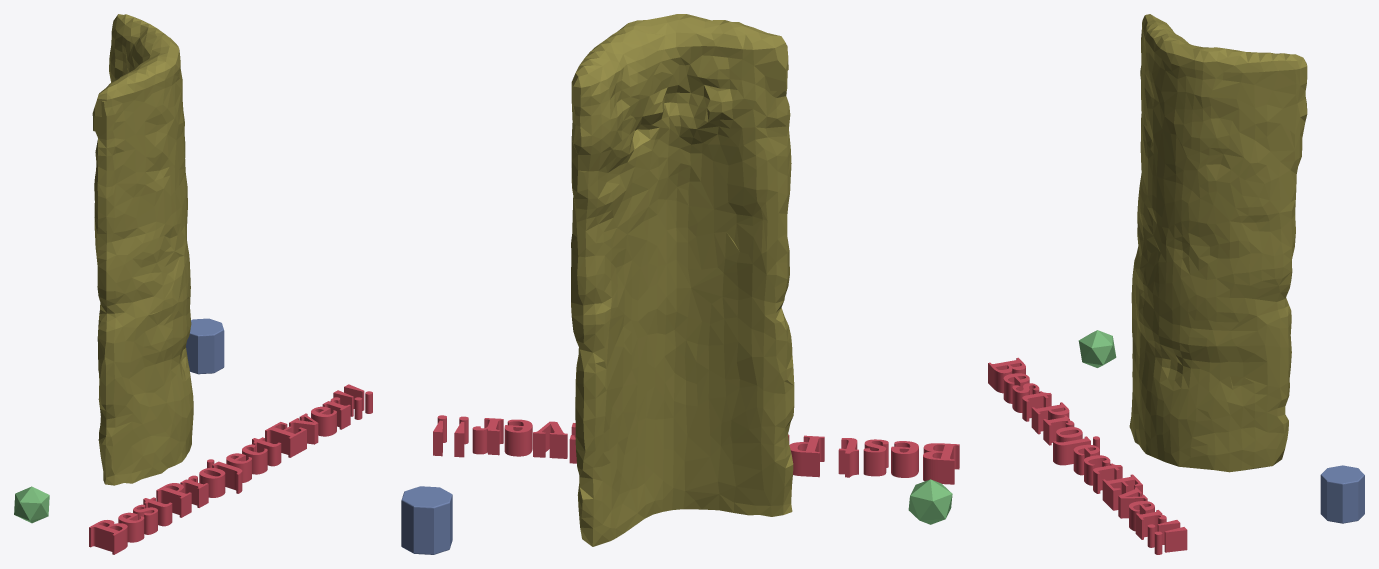
File: tinker_tiki.glb
3 views of the same model, side by side, from view 1: azimuth 30°, elevation 25°; view 2: azimuth 150°, elevation 25°; view 3: azimuth 270°, elevation 25° (orthographic). The views are drawn at different scales.
Visible parts, largest first — view 1: Mesh_Mesh_head_geo.001_lambert2SG.001; view 2: Mesh_Mesh_head_geo.001_lambert2SG.001; view 3: Mesh_Mesh_head_geo.001_lambert2SG.001.
Part boxes in pixels (<box>): Mesh_Mesh_head_geo.001_lambert2SG.001: <box>14,14,372,554</box>; Mesh_Mesh_head_geo.001_lambert2SG.001: <box>401,14,959,554</box>; Mesh_Mesh_head_geo.001_lambert2SG.001: <box>988,14,1364,554</box>.
Bounding box in the file's own units: 207 × 206 × 170.
